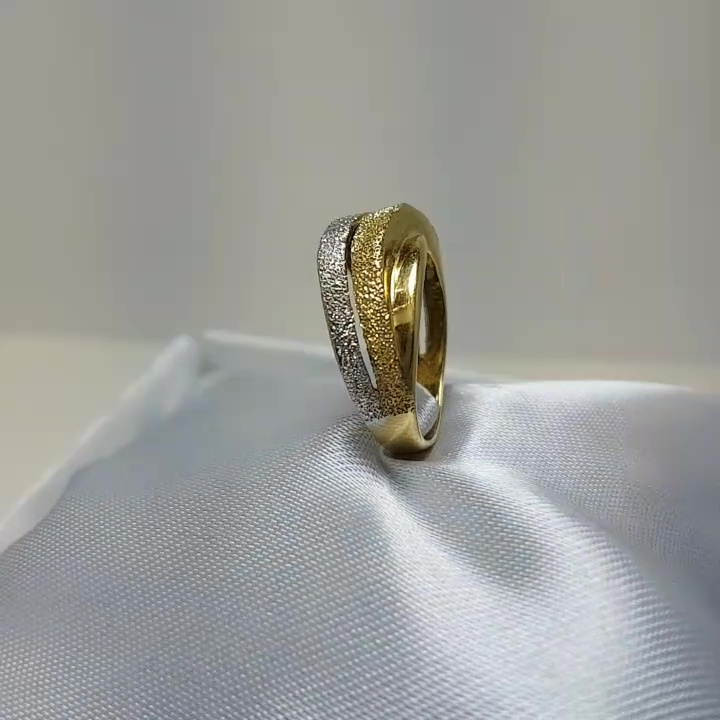Ring 5: (284, 184, 470, 472)
